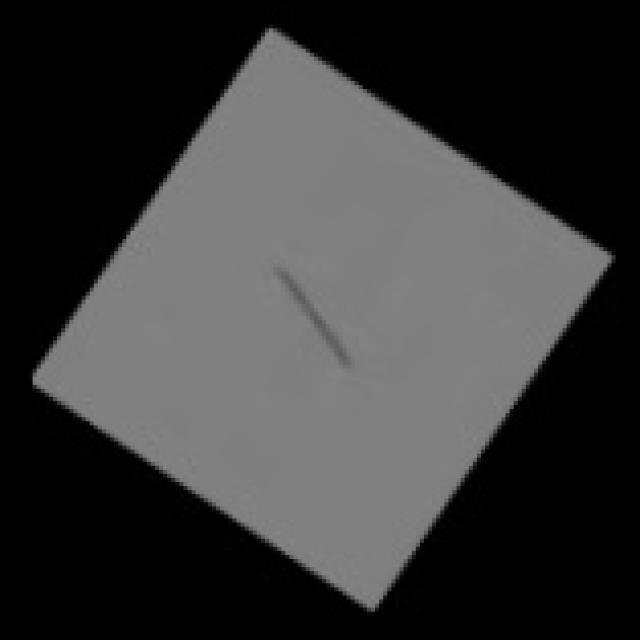Defect4: (258, 245, 373, 396)
